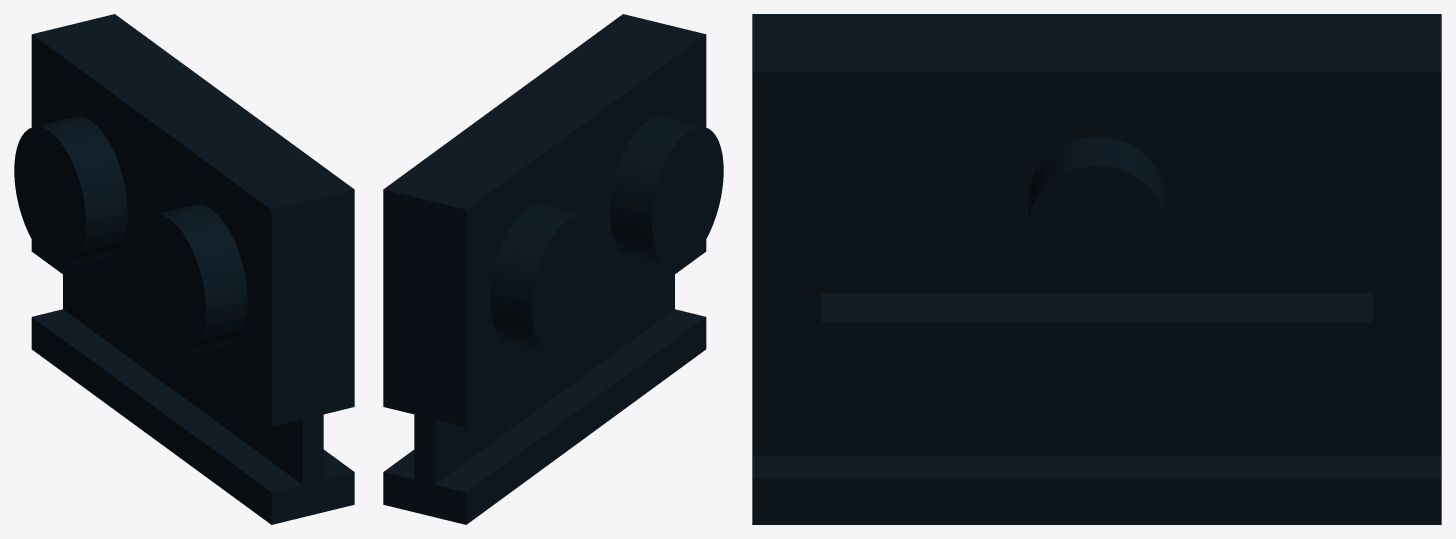
3 views of the same model, side by side, from view 1: azimuth 30°, elevation 25°; view 2: azimuth 150°, elevation 25°; view 3: azimuth 270°, elevation 25° (orthographic). The views are drawn at different scales.
Parts seen in each view (by area): view 1: box4_4a, box5_4a, box4o8a, rect_2, _4_4disc, _4_4disc_1, _1_4cyli, _1_4cyli_4, _1_4cyli_3, _1_4cyli_7, rect_3, _1_4cyli_5 (+1 smaller); view 2: box4_4a, box5_4a, box4o8a, rect_2, _4_4disc_1, _4_4disc, _1_4cyli_1, _1_4cyli_5, _1_4cyli_6, _1_4cyli_2, rect_3, _1_4cyli (+1 smaller); view 3: mesh_23, box5, box4o8a, box4_4a, box5_4a, rect_3, _4_4disc_2, _1_4cyli_10, _1_4cyli_11.
Part boxes in pixels (x1,y1,x2,y2): box4_4a: (31,14,354,426); box5_4a: (31,317,354,524); box4o8a: (63,274,323,484); rect_2: (32,309,302,492); _4_4disc: (14,126,86,267); _4_4disc_1: (134,214,205,354); _1_4cyli: (50,121,127,222); _1_4cyli_4: (170,209,247,310); _1_4cyli_3: (69,213,127,266); _1_4cyli_7: (189,301,247,353); rect_3: (323,450,354,479); _1_4cyli_5: (153,204,211,219); box4_4a: (383,14,706,426); box5_4a: (383,317,706,524); box4o8a: (414,274,674,484); rect_2: (435,309,705,492); _4_4disc_1: (651,126,723,267); _4_4disc: (532,214,603,354); _1_4cyli_1: (490,209,567,310); _1_4cyli_5: (610,121,687,222); _1_4cyli_6: (610,213,668,266); _1_4cyli_2: (490,301,548,353); rect_3: (383,450,414,479); _1_4cyli: (526,204,584,219); mesh_23: (752,72,1441,384); box5: (821,134,1372,321); box4o8a: (752,384,1441,456); box4_4a: (752,14,1441,72); box5_4a: (752,478,1441,524); rect_3: (752,456,1441,477); _4_4disc_2: (1028,166,1165,290); _1_4cyli_10: (1097,136,1165,226); _1_4cyli_11: (1028,136,1096,226).
Size of the model in its own units: 12 by 29 by 40.
